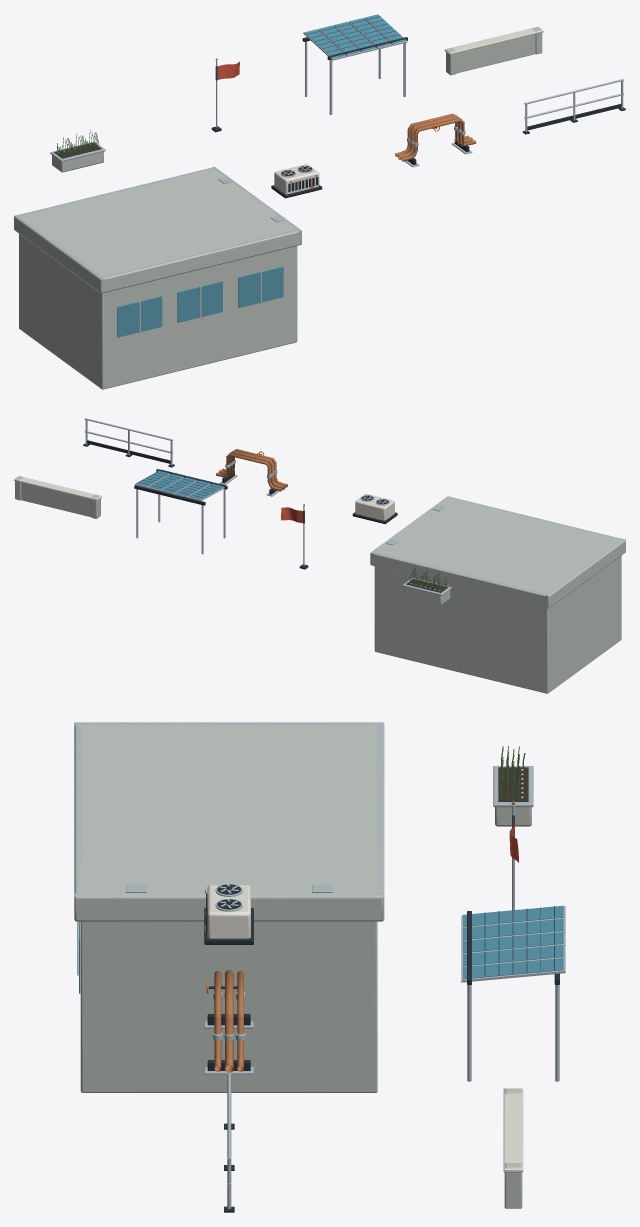
File: RoofKit.fbx
The picture shows the model from 3 angles, top to bottom: view 1: azimuth 30°, elevation 25°; view 2: azimuth 150°, elevation 25°; view 3: azimuth 270°, elevation 25°; orthographic projection. The views are drawn at different scales.
Parts seen in each view (by area): view 1: GFCG_BuildingFacade, GFCG_RoofSlab, GFCG_ParapetWall, GFCG_FacadeWindow_-2.4, GFCG_FacadeWindow_0, GFCG_FacadeWindow_2.4, GFCG_VentCasing, GFCG_ParapetCap, GFCG_PlanterShell; view 2: GFCG_BuildingFacade, GFCG_RoofSlab, GFCG_ParapetWall, GFCG_VentCasing, GFCG_ParapetCap, GFCG_PlanterShell, GFCG_RoofEdgeY_2.91, GFCG_CopperReturn_1; view 3: GFCG_RoofSlab, GFCG_BuildingFacade, GFCG_VentCasing, GFCG_ParapetCap, GFCG_SolarPanelGlass_0, GFCG_SolarPanelGlass_1, GFCG_SolarPanelGlass_2, GFCG_SolarPanelGlass_3, GFCG_SolarPanelGlass_4, GFCG_RoofEdgeY_-2.91, GFCG_PlanterSoil, GFCG_RoofEdgeX_-3.91 (+7 smaller).
Part boxes in pixels (bbox=[...]): GFCG_BuildingFacade: bbox=[19, 234, 297, 389]; GFCG_RoofSlab: bbox=[14, 168, 301, 293]; GFCG_ParapetWall: bbox=[456, 34, 535, 73]; GFCG_FacadeWindow_-2.4: bbox=[117, 296, 162, 337]; GFCG_FacadeWindow_0: bbox=[177, 281, 222, 322]; GFCG_FacadeWindow_2.4: bbox=[238, 266, 283, 307]; GFCG_VentCasing: bbox=[274, 164, 319, 194]; GFCG_ParapetCap: bbox=[444, 26, 543, 54]; GFCG_PlanterShell: bbox=[52, 151, 103, 172]; GFCG_BuildingFacade: bbox=[374, 555, 621, 693]; GFCG_RoofSlab: bbox=[370, 496, 625, 608]; GFCG_ParapetWall: bbox=[21, 482, 91, 516]; GFCG_VentCasing: bbox=[355, 494, 394, 520]; GFCG_ParapetCap: bbox=[14, 476, 101, 500]; GFCG_PlanterShell: bbox=[404, 586, 450, 605]; GFCG_RoofEdgeY_2.91: bbox=[373, 552, 547, 595]; GFCG_CopperReturn_1: bbox=[218, 450, 285, 489]; GFCG_RoofSlab: bbox=[74, 722, 384, 921]; GFCG_BuildingFacade: bbox=[80, 921, 377, 1092]; GFCG_VentCasing: bbox=[207, 885, 250, 938]; GFCG_ParapetCap: bbox=[503, 1088, 523, 1172]; GFCG_SolarPanelGlass_0: bbox=[463, 905, 563, 926]; GFCG_SolarPanelGlass_1: bbox=[463, 919, 563, 939]; GFCG_SolarPanelGlass_2: bbox=[463, 932, 563, 952]; GFCG_SolarPanelGlass_3: bbox=[463, 945, 563, 965]; GFCG_SolarPanelGlass_4: bbox=[463, 958, 563, 979]; GFCG_RoofEdgeY_-2.91: bbox=[75, 724, 81, 893]; GFCG_PlanterSoil: bbox=[498, 767, 528, 801]; GFCG_RoofEdgeX_-3.91: bbox=[74, 722, 384, 726].
Bounding box in the file's own units: 22.49 × 7 × 9.51.
